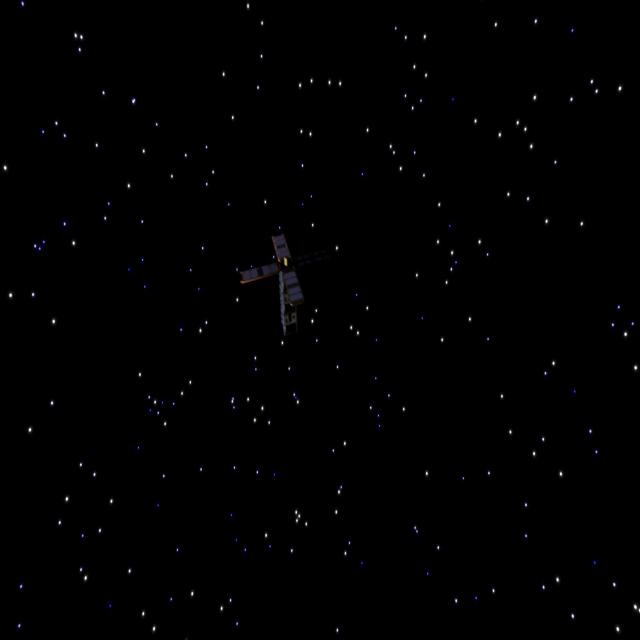medium_debris: (235, 229, 319, 344)
